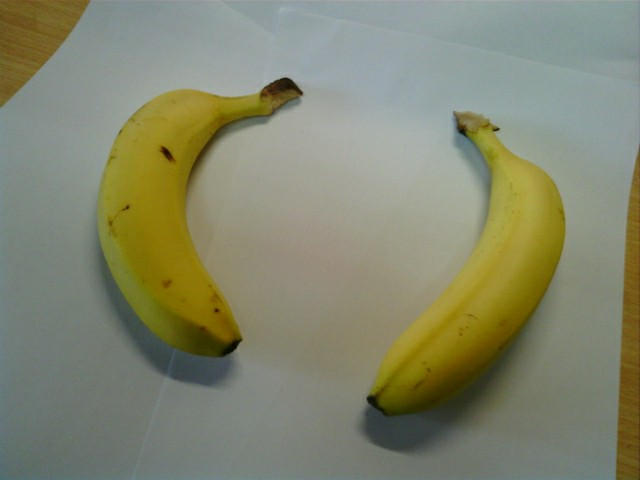fresh_banana: (366, 111, 564, 419)
normal_banana: (100, 88, 250, 360)
